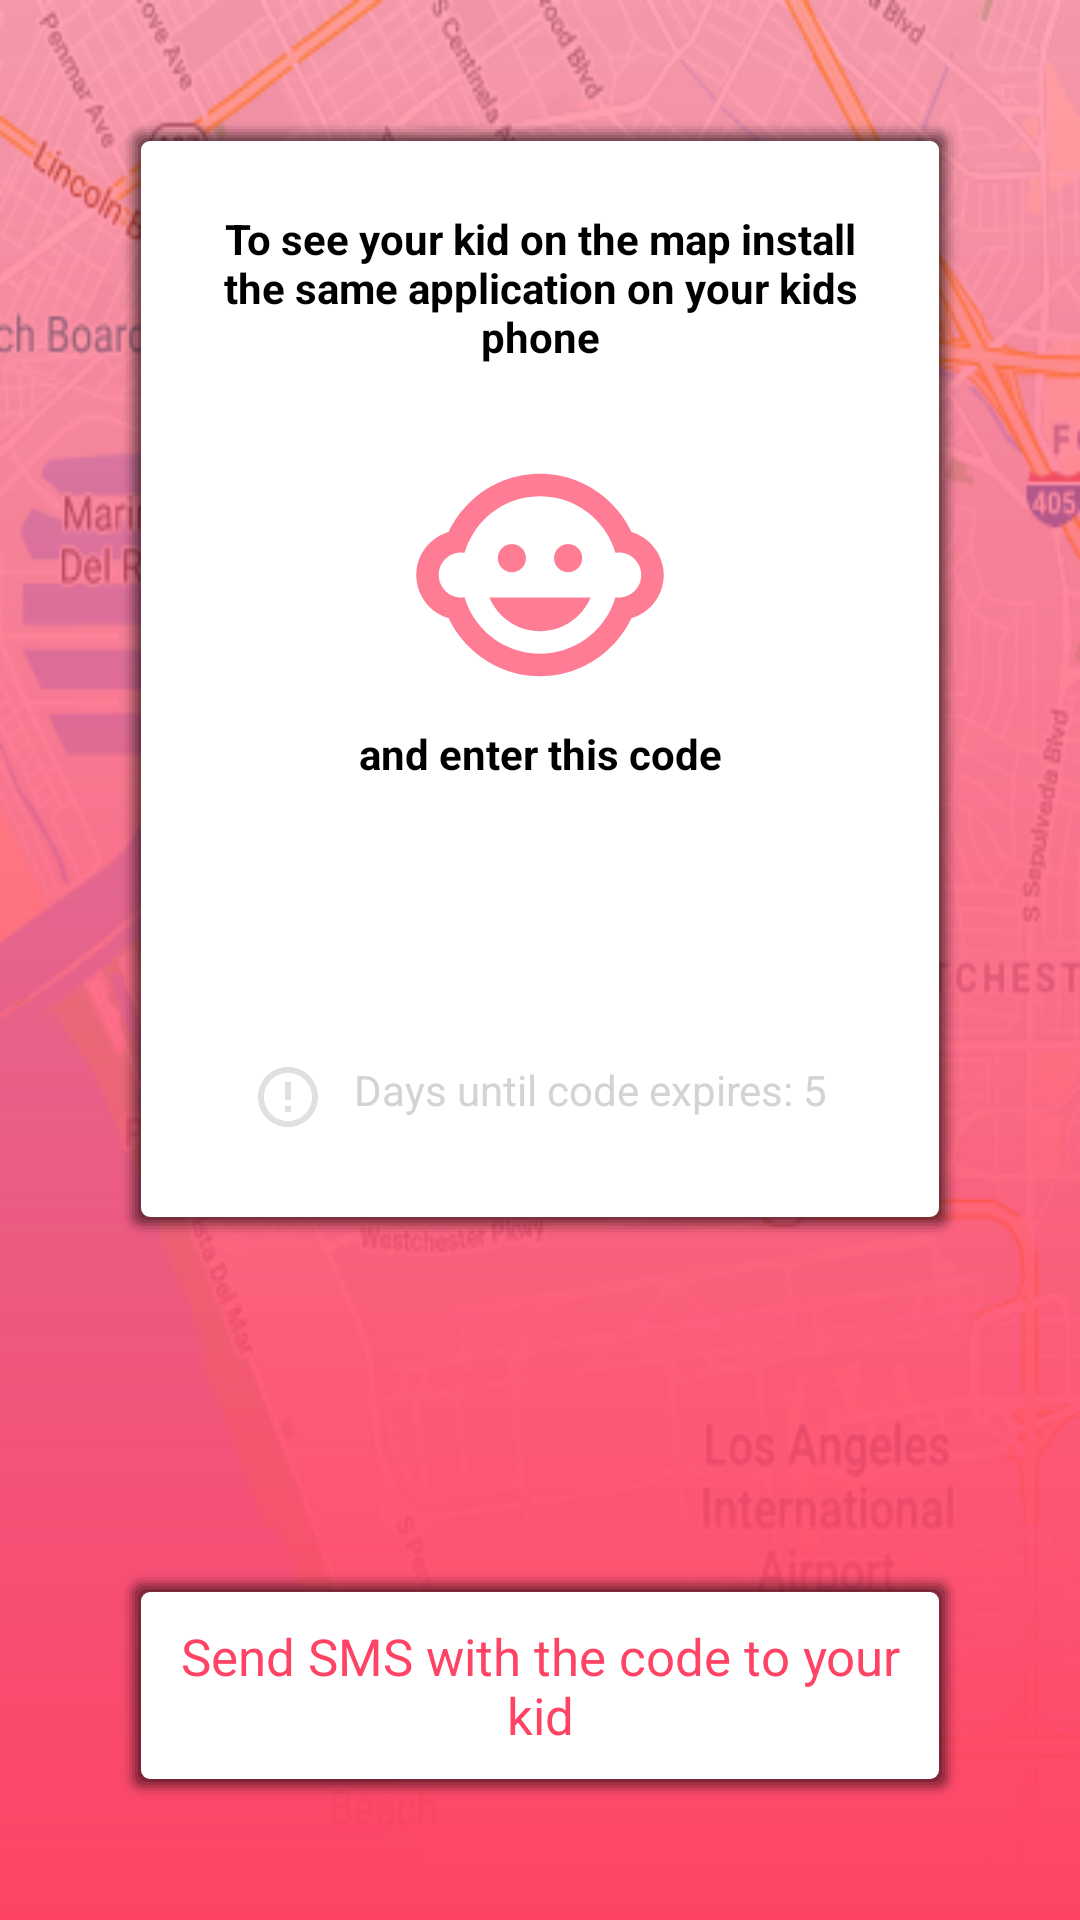

Icon click points for this 1080 × 1920 phone screenshot, format (x=x, y=y):
child care: (x=540, y=575)
error: (x=288, y=1097)
